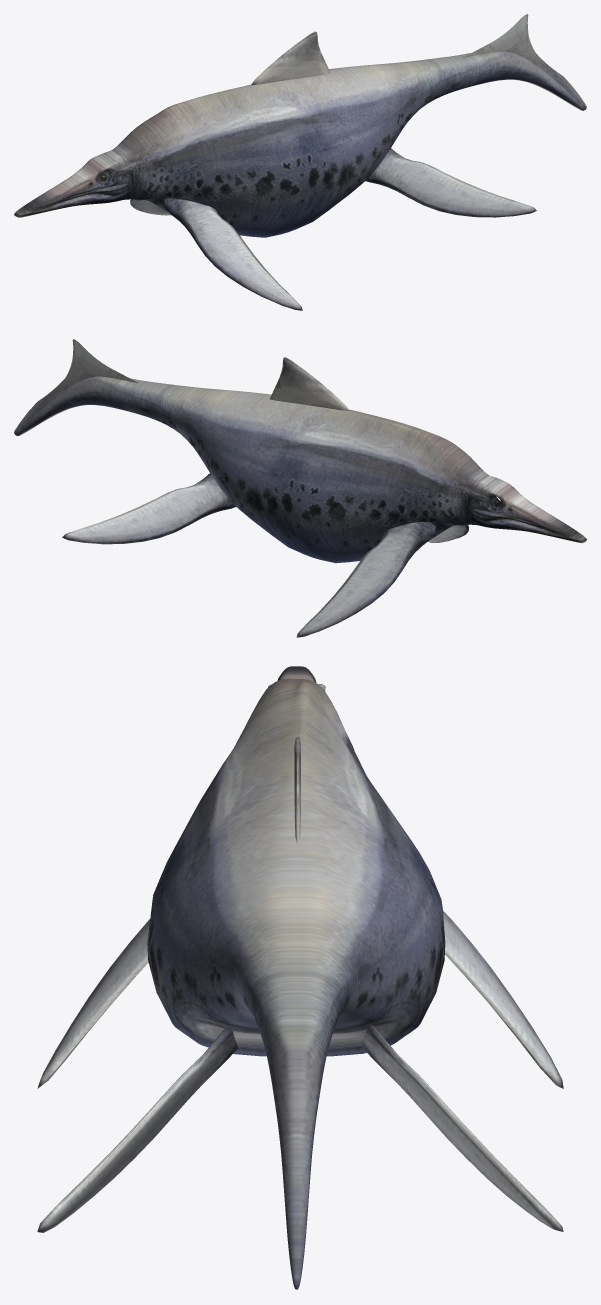
File: shonisaurus.glb
3 views of the same model, one above another, from view 1: azimuth 30°, elevation 25°; view 2: azimuth 150°, elevation 25°; view 3: azimuth 270°, elevation 25° (orthographic). The views are drawn at different scales.
Visible parts, largest first — view 1: Material2; view 2: Material2; view 3: Material2.
Boxes of the visible parts, box(x1,y1,x2,y2) form: Material2: box(14, 14, 586, 310); Material2: box(14, 339, 586, 637); Material2: box(37, 666, 563, 1289).
Bounding box in the file's own units: 595 × 212 × 237.
Materials: 1 (1 with a texture image).
